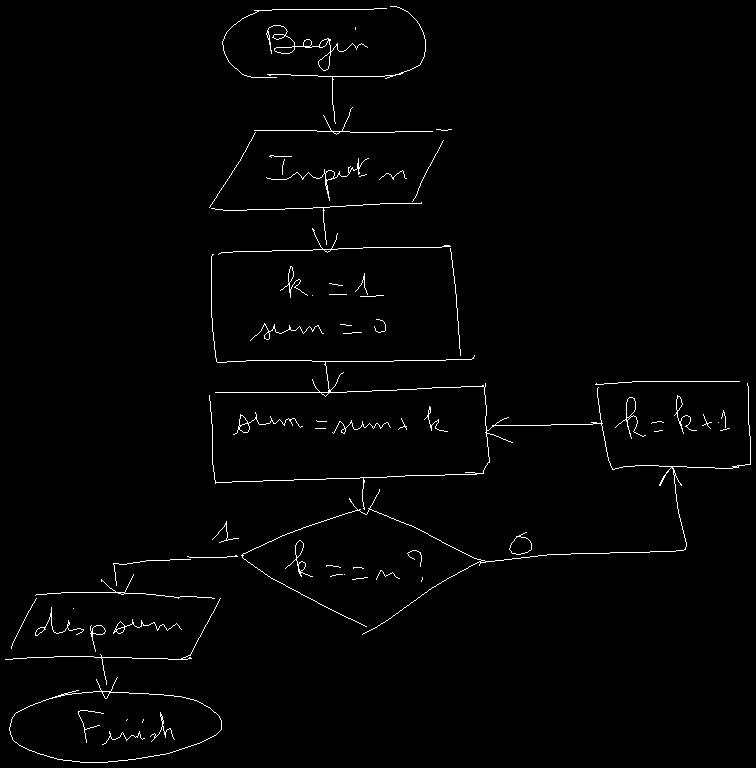arrow: (481, 466, 686, 562), (101, 555, 237, 594), (485, 417, 602, 442), (323, 77, 352, 134), (349, 477, 379, 514), (312, 208, 337, 252), (312, 362, 343, 396), (96, 654, 117, 698)
data: (209, 129, 451, 210), (5, 592, 220, 659)
decision: (241, 508, 487, 634)
process: (211, 245, 474, 362), (209, 383, 489, 483), (595, 381, 750, 469)
terminator: (9, 690, 221, 762), (222, 6, 425, 78)
text: (250, 266, 385, 340), (35, 607, 181, 651), (266, 155, 406, 200), (233, 406, 447, 434), (285, 540, 422, 581), (615, 395, 729, 438), (266, 25, 367, 70), (78, 710, 174, 744), (212, 521, 238, 542), (509, 532, 531, 554)
